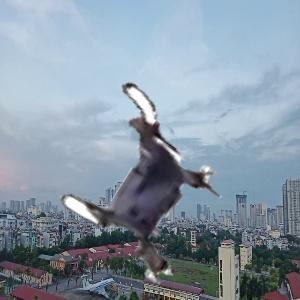drone: (56, 96, 234, 274)
